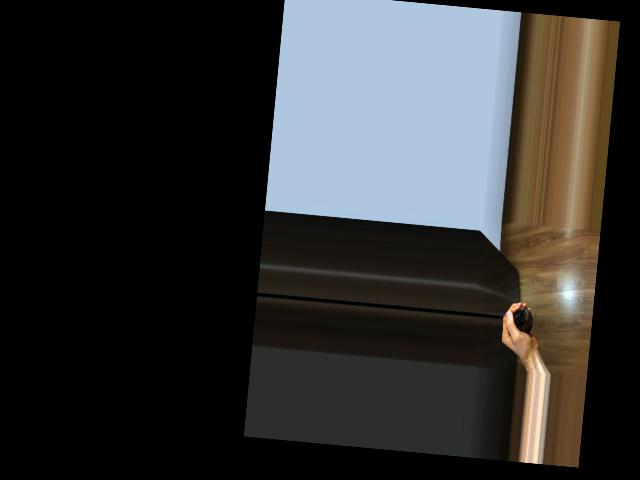beet: (492, 303, 534, 334)
